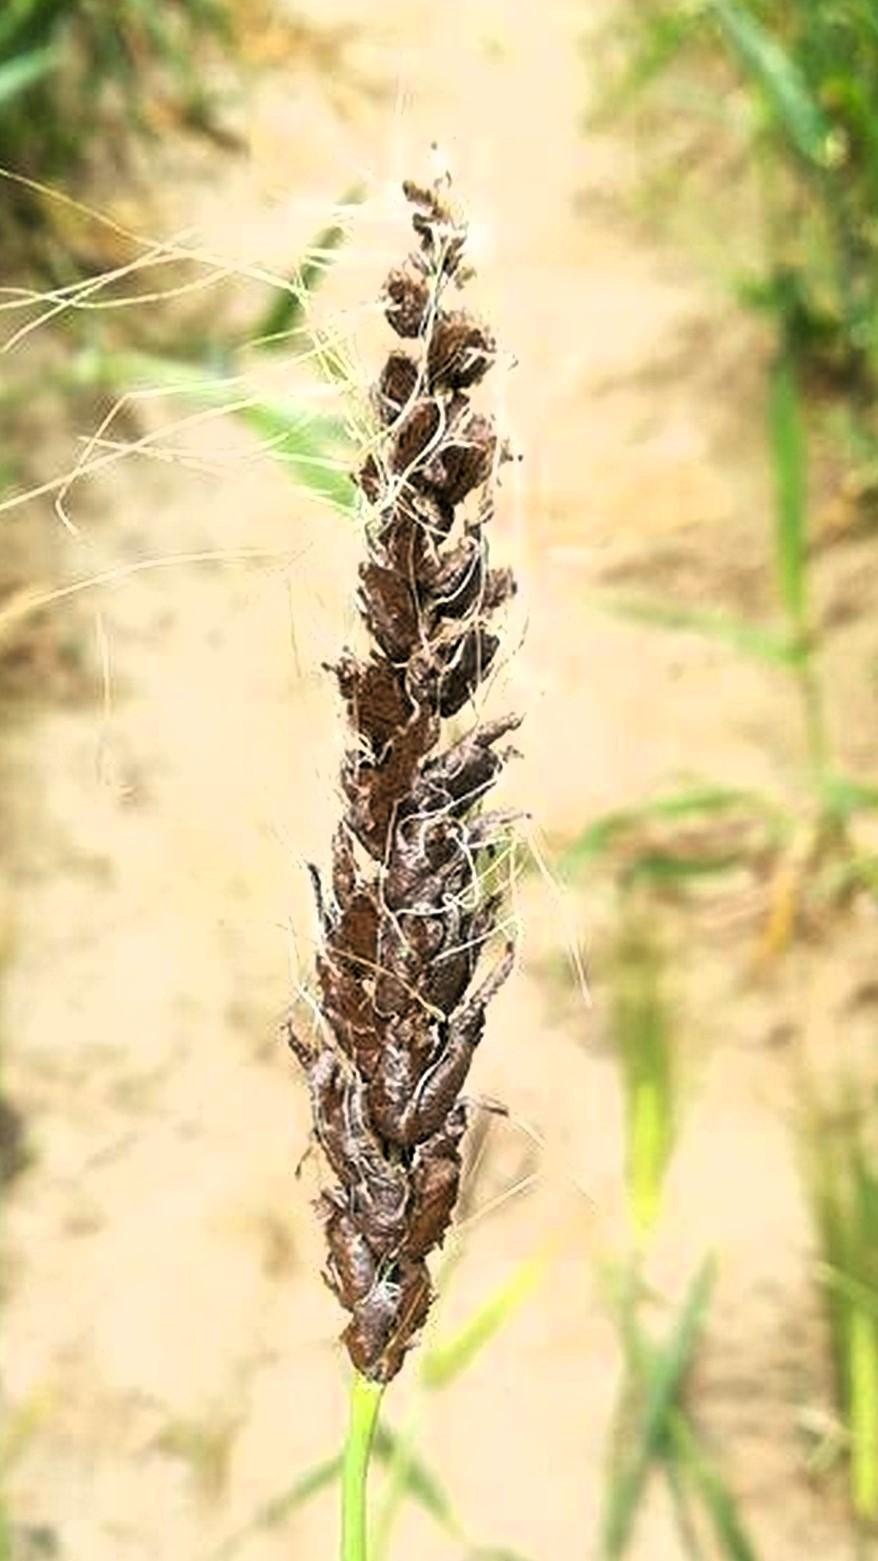Wheat Loose Smut: (257, 181, 552, 1361)
